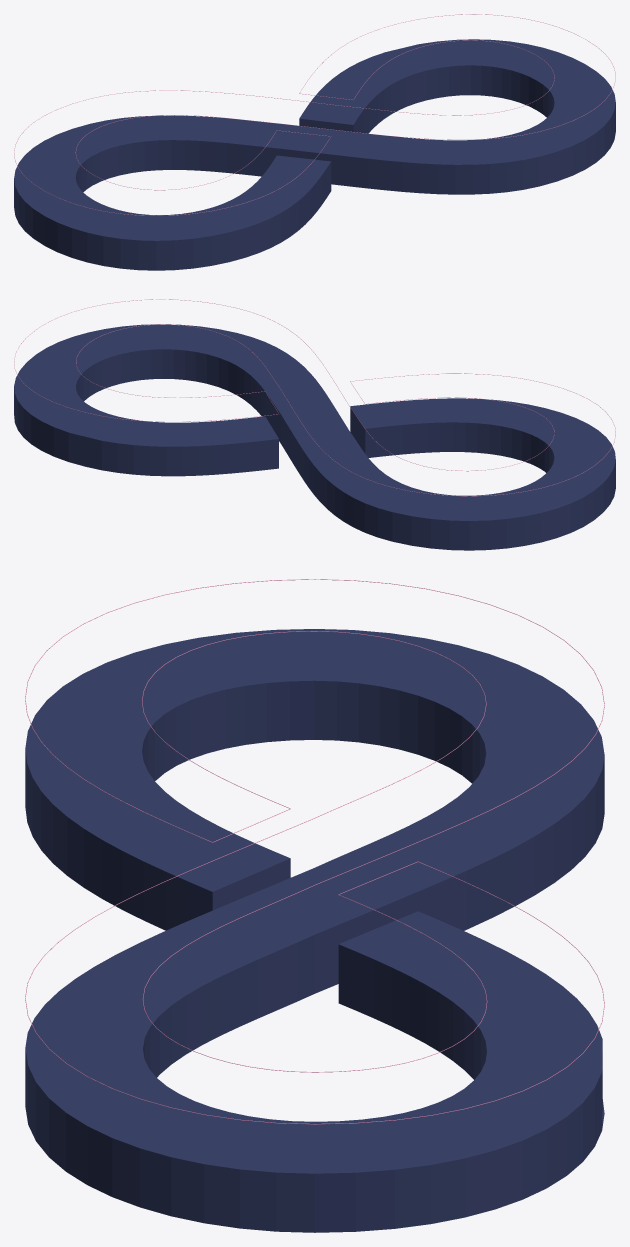
File: Infinity06.gltf
The picture shows the model from 3 angles, top to bottom: view 1: azimuth 30°, elevation 25°; view 2: azimuth 150°, elevation 25°; view 3: azimuth 270°, elevation 25°; orthographic projection. The views are drawn at different scales.
Visible parts, largest first — view 1: Curve, Curve.001; view 2: Curve, Curve.001; view 3: Curve, Curve.001.
Boxes of the visible parts, box(x1,y1,x2,y2) form: Curve: box(14, 39, 615, 270); Curve.001: box(14, 14, 615, 215); Curve: box(14, 324, 615, 550); Curve.001: box(14, 299, 615, 496); Curve: box(25, 629, 604, 1232); Curve.001: box(25, 579, 604, 1124).
Size of the model in its own units: 8.87 by 0.8258 by 3.99.
